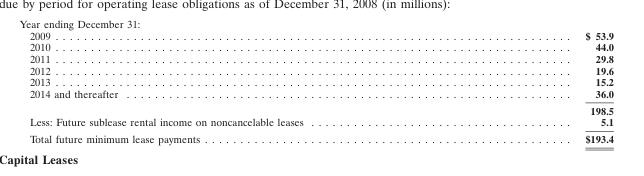table: (28, 28, 612, 144)
table column: (28, 28, 443, 144), (443, 28, 612, 144)
table row: (28, 115, 612, 130), (28, 87, 612, 101), (28, 101, 612, 115), (28, 130, 612, 144), (28, 28, 612, 40), (28, 40, 612, 52), (28, 52, 612, 64), (28, 75, 612, 87), (28, 64, 612, 75)
